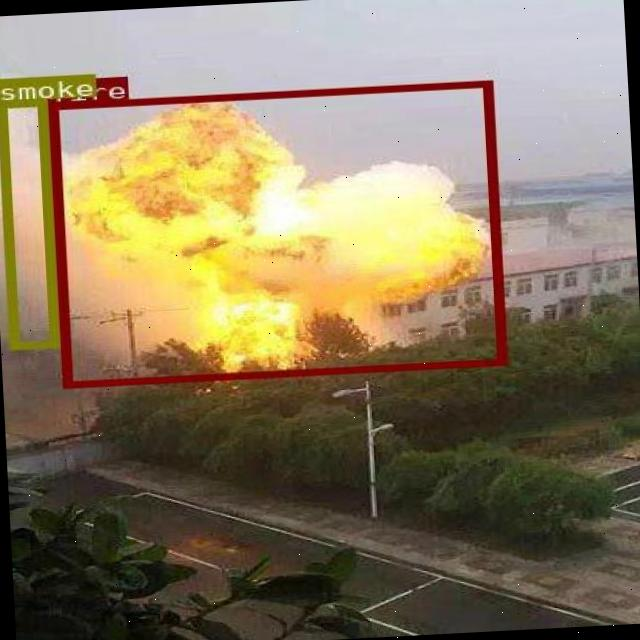fire: (48, 80, 504, 388)
smoke: (0, 100, 58, 349)
